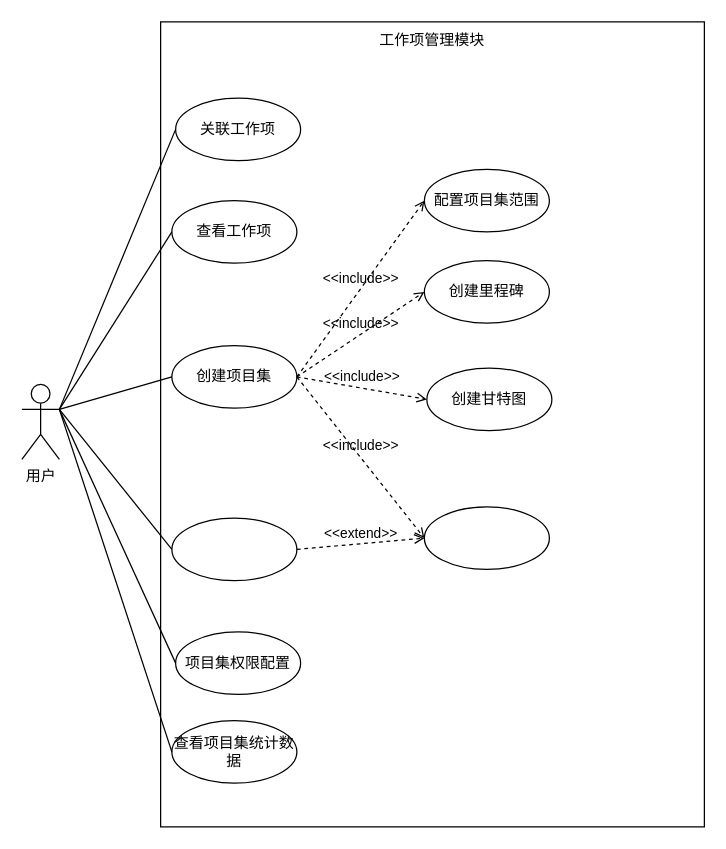
Image size: 726x849. Some labels were removed from this diagram. Here are the shapes that lost their labels. From the top down, the centre of each, then its label:
(x=234, y=549): 创建工作项
(x=486, y=537): 创建计划
